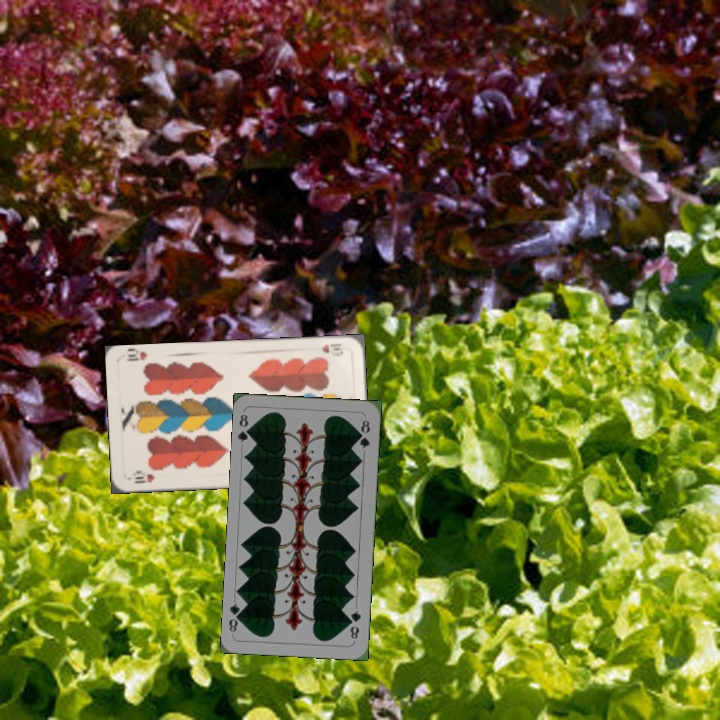G8: (234, 408, 255, 445), (345, 606, 364, 642)
H10: (129, 468, 157, 486), (318, 339, 346, 356)
